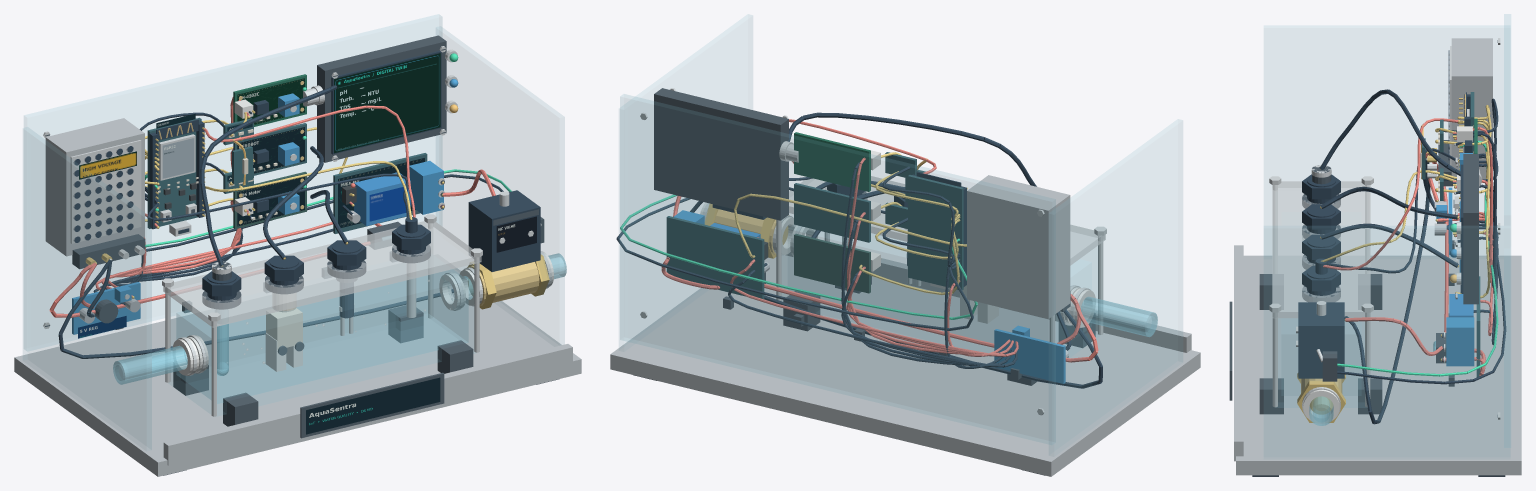
The model's file is aquasentra-device.glb.
The picture shows the model from 3 angles, left to right: view 1: azimuth 30°, elevation 25°; view 2: azimuth 150°, elevation 25°; view 3: azimuth 270°, elevation 25°; orthographic projection. The views are drawn at different scales.
Parts seen in each view (by area): view 1: frame:acrylic-side, base:aluminum-base, frame:clear-back, water:volume, chamber:water-cell, chamber:top-plate, display:static-bezel, base:front-lip, power:perforated-housing, display:frame, power:front-grille, base:flow-bracket (+43 smaller); view 2: frame:clear-back, base:aluminum-base, frame:acrylic-side, display:frame, power:perforated-housing, relay:pcb, esp32:pcb, ph:pcb, tds:pcb, turbidity:pcb, base:front-lip, power:regulator-pcb (+20 smaller); view 3: frame:acrylic-side, base:aluminum-base, chamber:top-plate, power:perforated-housing, base:flow-bracket, valve:coil, frame:clear-back, display:frame, water:volume, base:front-lip, chamber:through-bolt, wire:valve_to_12v_return (+35 smaller).
Boxes of the visible parts, <box> form: frame:acrylic-side: <box>23,27,564,449</box>; base:aluminum-base: <box>14,255,581,476</box>; frame:clear-back: <box>24,14,441,350</box>; water:volume: <box>176,269,468,403</box>; chamber:water-cell: <box>169,264,474,415</box>; chamber:top-plate: <box>163,221,481,327</box>; display:static-bezel: <box>334,53,440,153</box>; base:front-lip: <box>163,344,572,465</box>; power:perforated-housing: <box>45,118,144,256</box>; display:frame: <box>317,35,446,162</box>; power:front-grille: <box>70,140,141,243</box>; base:flow-bracket: <box>173,305,473,426</box>; frame:clear-back: <box>620,94,1055,444</box>; base:aluminum-base: <box>610,255,1200,476</box>; frame:acrylic-side: <box>619,14,1182,454</box>; display:frame: <box>654,88,788,220</box>; power:perforated-housing: <box>967,175,1070,319</box>; relay:pcb: <box>666,216,764,299</box>; esp32:pcb: <box>908,175,963,290</box>; ph:pcb: <box>794,132,870,191</box>; tds:pcb: <box>794,233,870,293</box>; turbidity:pcb: <box>794,183,870,242</box>; base:front-lip: <box>786,252,1191,352</box>; power:regulator-pcb: <box>994,329,1065,383</box>; frame:acrylic-side: <box>1264,26,1510,456</box>; base:aluminum-base: <box>1236,255,1521,475</box>; chamber:top-plate: <box>1272,181,1370,318</box>; power:perforated-housing: <box>1451,38,1492,179</box>; base:flow-bracket: <box>1259,274,1382,414</box>; valve:coil: <box>1298,302,1344,378</box>; frame:clear-back: <box>1504,14,1510,447</box>; display:frame: <box>1463,154,1478,304</box>; water:volume: <box>1282,319,1360,395</box>; base:front-lip: <box>1234,245,1243,461</box>; chamber:through-bolt: <box>1272,185,1370,407</box>; wire:valve_to_12v_return: <box>1344,158,1430,424</box>.
Size of the model in its own units: 8.1 by 4.59 by 4.57.
Materials: 243 (14 with a texture image).
